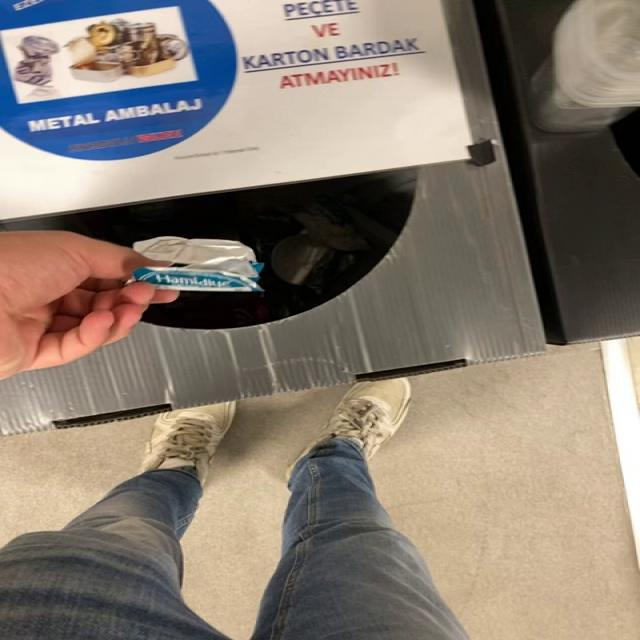bin: (1, 0, 545, 434)
metal: (132, 236, 264, 292)
